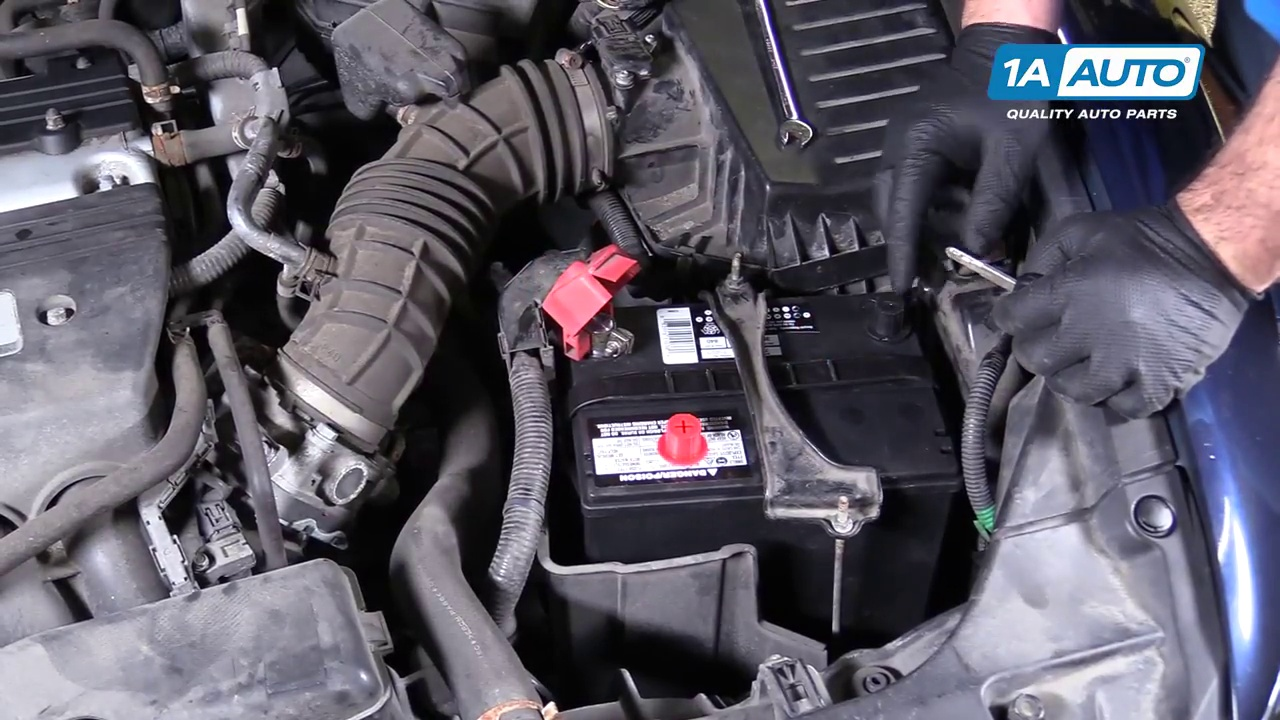battery: (548, 275, 975, 495)
pos_connected: (517, 252, 655, 367)
